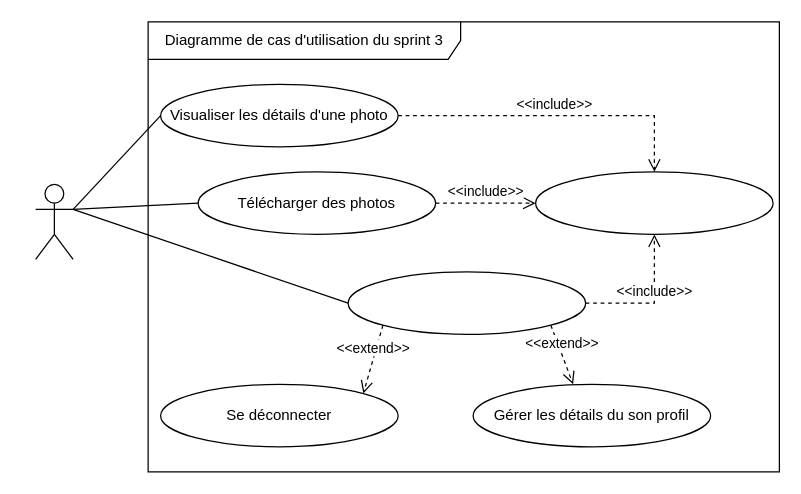
This 801x494 diagram has some shape labels left out. The centre of each missing label's shape, as x and y in pixels:
Gérer son compte: (x=466, y=302)
S'authentifier: (x=653, y=202)
Utilisateur: (x=53, y=221)
